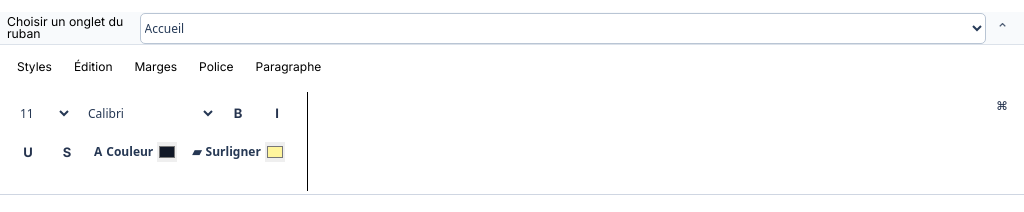
Scenario: ResponsiveRibbon › ruban organisé : toutes les commandes de police restent directes sur mobile et les paragraphes sont accessibles par groupe
Check: the dropdown named "Police" is shown, box left=77, top=96, right=216, bottom=130
Check: the colour field named "Couleur du texte" is shown, box left=157, top=142, right=177, bottom=162
Click the button "Paragraphe". click: (288, 67)
box: left=247, top=51, right=330, bottom=83
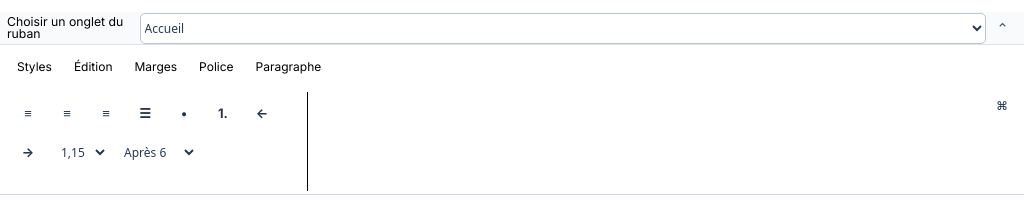
Check: the button named "Aligner à gauche" is shown, box left=11, top=96, right=45, bottom=130
Check: the button named "Centrer" is shown, box left=50, top=96, right=84, bottom=130
Check: the button named "Aligner à droite" is shown, box left=89, top=96, right=123, bottom=130
